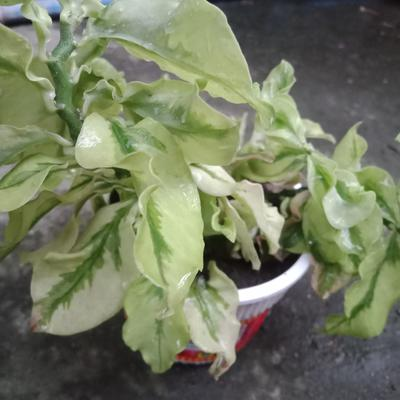Pothos plant: (20, 24, 380, 295)
